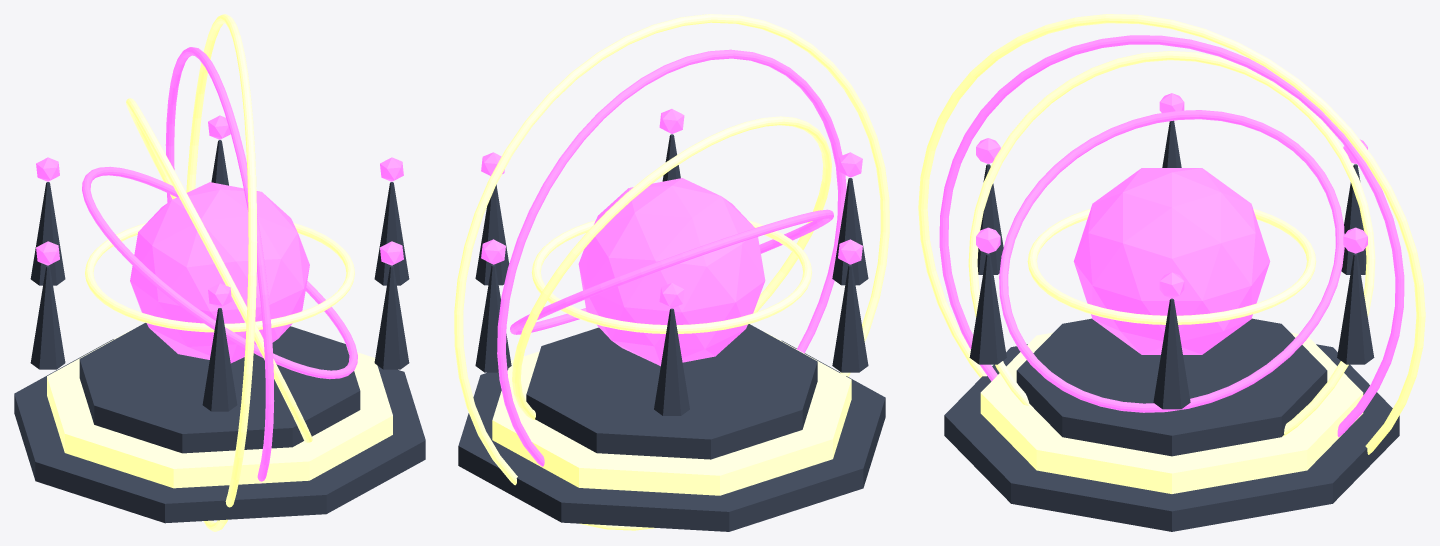
The model's file is gpu-blender-v26.glb.
The picture shows the model from 3 angles, left to right: view 1: azimuth 30°, elevation 25°; view 2: azimuth 150°, elevation 25°; view 3: azimuth 270°, elevation 25°; orthographic projection. The views are drawn at different scales.
Parts seen in each view (by area): view 1: Cylinder.002, Cylinder, SovereignCore_datamosh-glitch-studio, Cylinder.001, Torus.004, Torus.003, Torus.001, Torus, Torus.002, Cone.004, Cone.003, Cone.005 (+3 smaller); view 2: Cylinder.002, SovereignCore_datamosh-glitch-studio, Cylinder, Cylinder.001, Torus.004, Torus.003, Torus.002, Torus.001, Torus, Cone.003, Cone.002, Cone.001 (+2 smaller); view 3: SovereignCore_datamosh-glitch-studio, Cylinder.002, Cylinder, Cylinder.001, Torus.004, Torus.001, Torus.003, Torus.002, Torus, Cone, Cone.001, Cone.005 (+3 smaller).
Boxes of the visible parts, left/top/right/bottom form: Cylinder.002: left=79, top=323, right=360, bottom=453; Cylinder: left=14, top=339, right=425, bottom=523; SovereignCore_datamosh-glitch-studio: left=130, top=182, right=309, bottom=363; Cylinder.001: left=47, top=330, right=392, bottom=488; Torus.004: left=186, top=14, right=257, bottom=531; Torus.003: left=165, top=47, right=274, bottom=483; Torus.001: left=82, top=166, right=357, bottom=379; Torus: left=85, top=223, right=354, bottom=332; Torus.002: left=126, top=98, right=312, bottom=442; Cone.004: left=202, top=308, right=237, bottom=411; Cone.003: left=30, top=266, right=65, bottom=369; Cone.005: left=374, top=266, right=409, bottom=369; Cylinder.002: left=526, top=324, right=817, bottom=459; SovereignCore_datamosh-glitch-studio: left=578, top=178, right=765, bottom=366; Cylinder: left=458, top=340, right=885, bottom=531; Cylinder.001: left=492, top=331, right=851, bottom=495; Torus.004: left=454, top=14, right=889, bottom=530; Torus.003: left=497, top=49, right=846, bottom=466; Torus.002: left=512, top=116, right=831, bottom=419; Torus.001: left=510, top=209, right=833, bottom=334; Torus: left=531, top=220, right=812, bottom=333; Cone.003: left=832, top=265, right=868, bottom=372; Cone.002: left=654, top=308, right=689, bottom=415; Cone.001: left=475, top=265, right=511, bottom=372; SovereignCore_datamosh-glitch-studio: left=1073, top=168, right=1270, bottom=354; Cylinder.002: left=1016, top=318, right=1327, bottom=456; Cylinder: left=944, top=344, right=1399, bottom=531; Cylinder.001: left=980, top=332, right=1363, bottom=493; Torus.004: left=918, top=14, right=1425, bottom=454; Torus.001: left=999, top=110, right=1344, bottom=412; Torus.003: left=939, top=35, right=1404, bottom=437; Torus.002: left=968, top=51, right=1375, bottom=435; Torus: left=1027, top=209, right=1316, bottom=324; Cone: left=1153, top=298, right=1190, bottom=409; Cone.001: left=1337, top=254, right=1374, bottom=364; Cone.005: left=969, top=254, right=1006, bottom=364.
Size of the model in its own units: 4.41 by 5.33 by 4.9.
